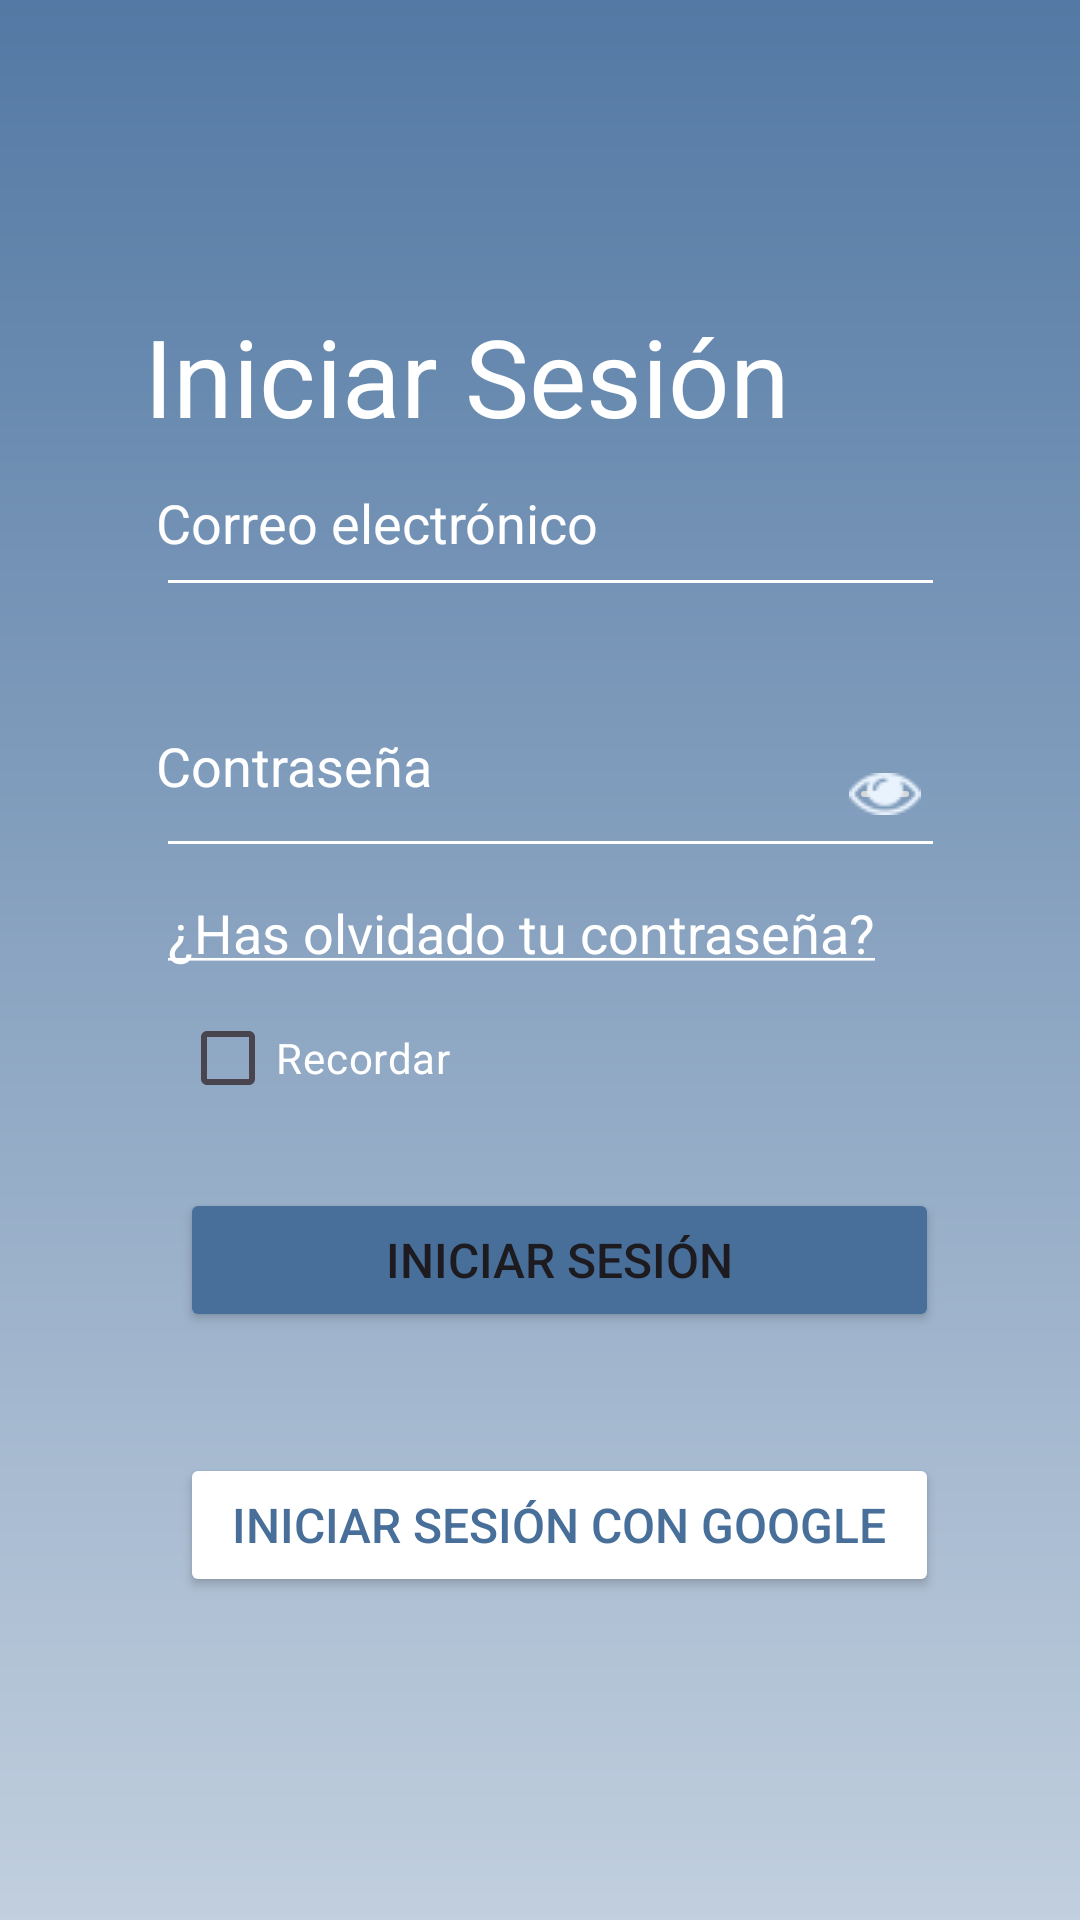

Where icons sit on this 1080x1920 app screen, as (x1=x1, y1=y1, x2=x2, y2=y2):
ojopassword: (x1=849, y1=773, x2=921, y2=815)
